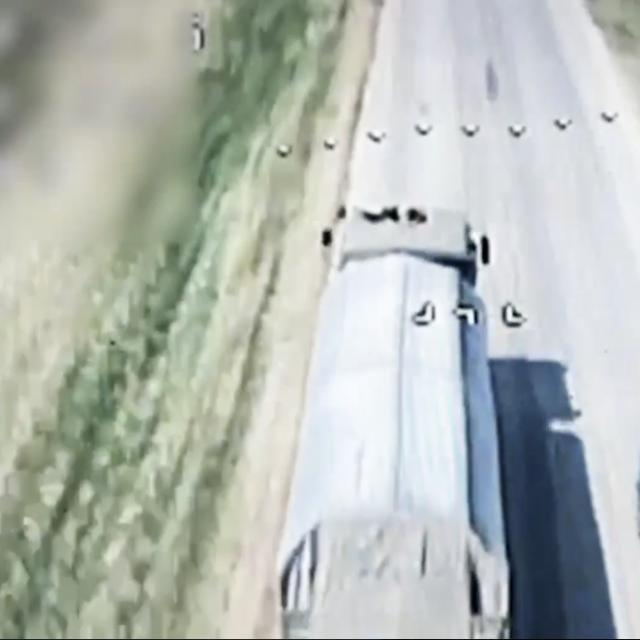vehicle: (274, 204, 511, 640)
